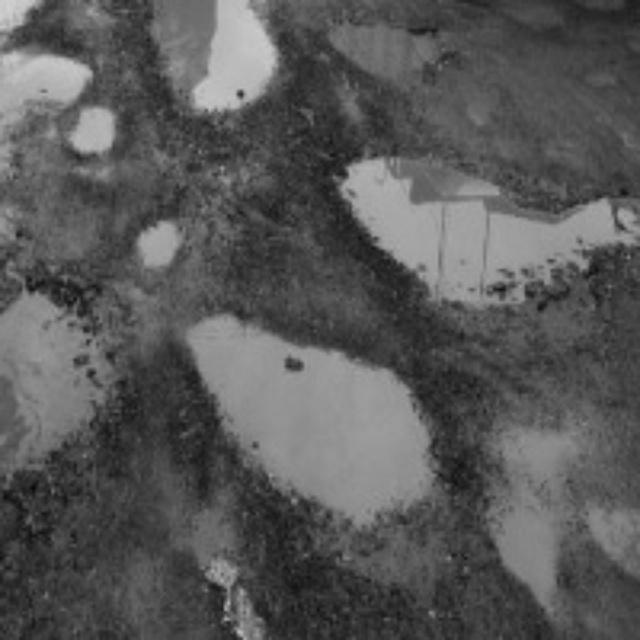Pothole: (196, 328, 390, 524), (338, 152, 541, 306), (0, 287, 106, 458), (128, 0, 278, 116), (307, 5, 425, 93), (0, 45, 92, 109), (472, 0, 601, 41), (127, 204, 189, 269), (67, 102, 126, 156)
